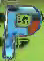Parking: (3, 1, 43, 57)
